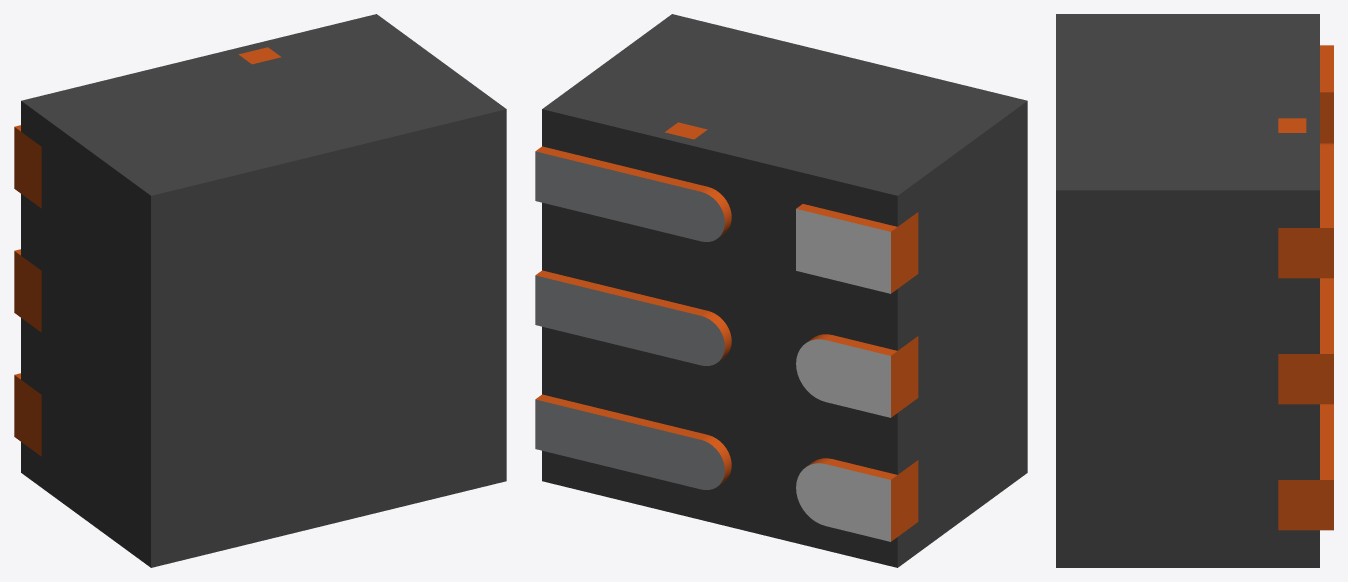
Rendered from TPS62825DMQR.glb.
The picture shows the model from 3 angles, left to right: view 1: azimuth 30°, elevation 25°; view 2: azimuth 150°, elevation 25°; view 3: azimuth 270°, elevation 25°; orthographic projection.
Visible parts, largest first — view 1: BODY-SON, FRAME-DMQ0006A; view 2: BODY-SON, FRAME-DMQ0006A; view 3: BODY-SON, FRAME-DMQ0006A.
Part boxes in pixels (<box>): BODY-SON: <box>21,14,506,567</box>; FRAME-DMQ0006A: <box>14,47,281,456</box>; BODY-SON: <box>542,14,1027,567</box>; FRAME-DMQ0006A: <box>535,122,918,541</box>; BODY-SON: <box>1056,14,1319,567</box>; FRAME-DMQ0006A: <box>1278,45,1333,530</box>.
Size of the model in its own units: 0.0015 by 0.0015 by 0.001.
